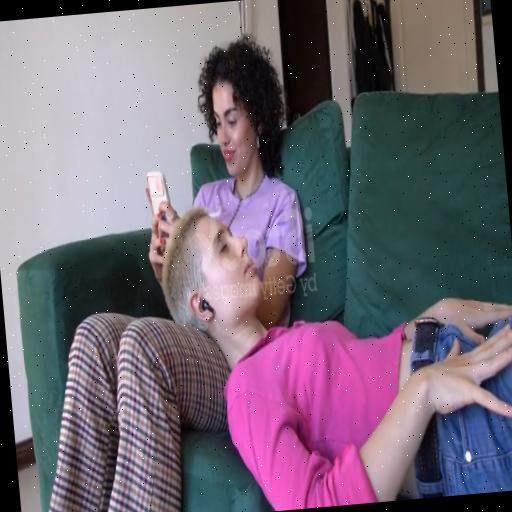earphone: (199, 296, 218, 319)
